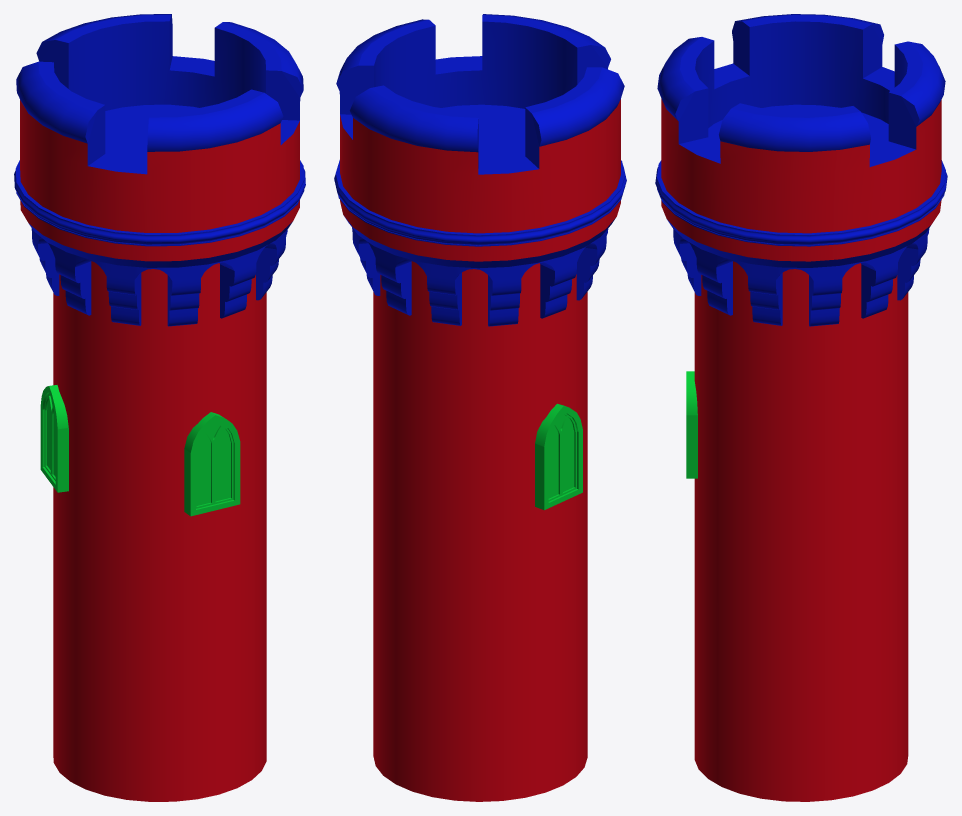
The model's file is Tower.fbx.
The picture shows the model from 3 angles, left to right: view 1: azimuth 30°, elevation 25°; view 2: azimuth 150°, elevation 25°; view 3: azimuth 270°, elevation 25°; orthographic projection.
Visible parts, largest first — view 1: Tower, Group_2.003, Group_2.008; view 2: Tower, Group_2.008; view 3: Tower, Group_2.003.
Part boxes in pixels (bbox=[...]): Tower: bbox=[14, 14, 305, 801]; Group_2.003: bbox=[184, 412, 240, 516]; Group_2.008: bbox=[40, 385, 68, 492]; Tower: bbox=[334, 14, 626, 801]; Group_2.008: bbox=[535, 403, 582, 510]; Tower: bbox=[655, 14, 947, 801]; Group_2.003: bbox=[686, 371, 697, 478].
Bounding box in the file's own units: 555 × 1445 × 555.
